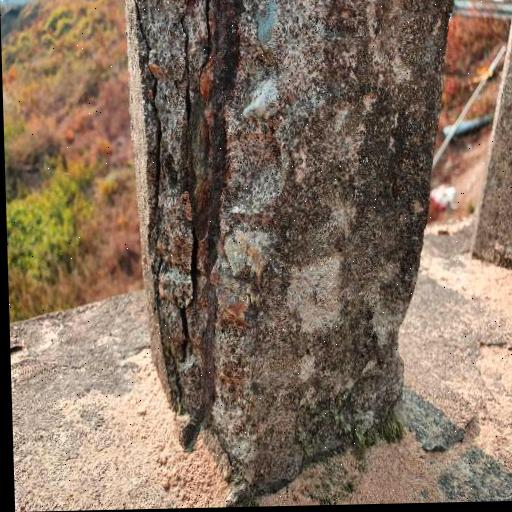exposed_rebar: (206, 0, 242, 296), (203, 303, 217, 415), (182, 417, 199, 446)
